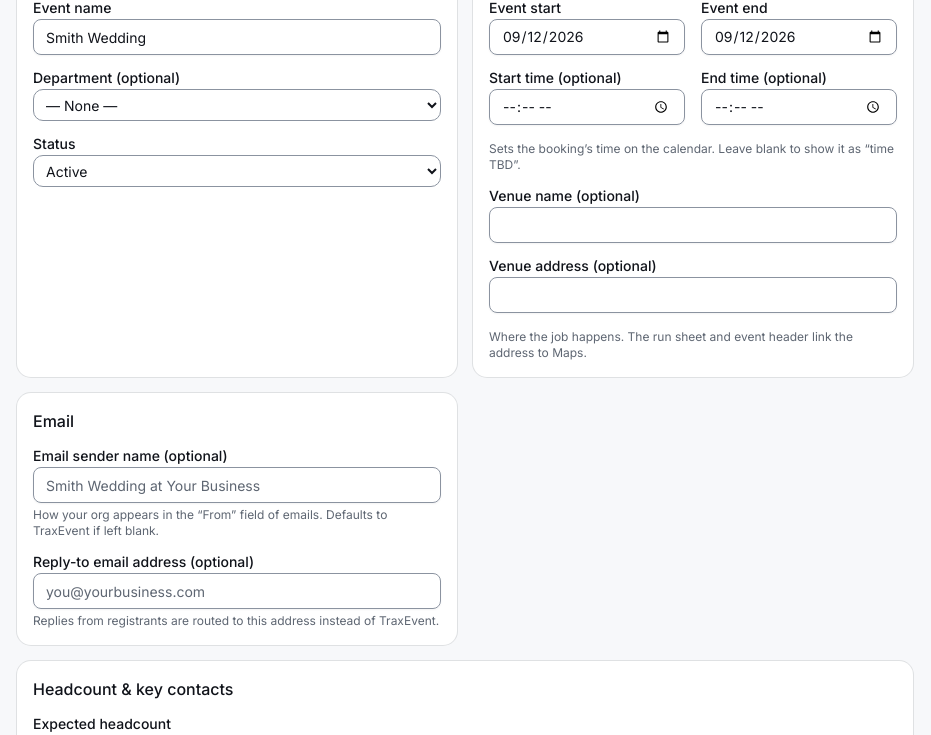
it: Event settings — client-job booking time › rejects a one-sided or reversed time range with an inline error, without saving
Note: one-sided: start only
Type "16:00" into the time field labelled "Start time (optional)". click: point(587, 107)
box: left=489, top=89, right=685, bottom=125
(page scrolled)
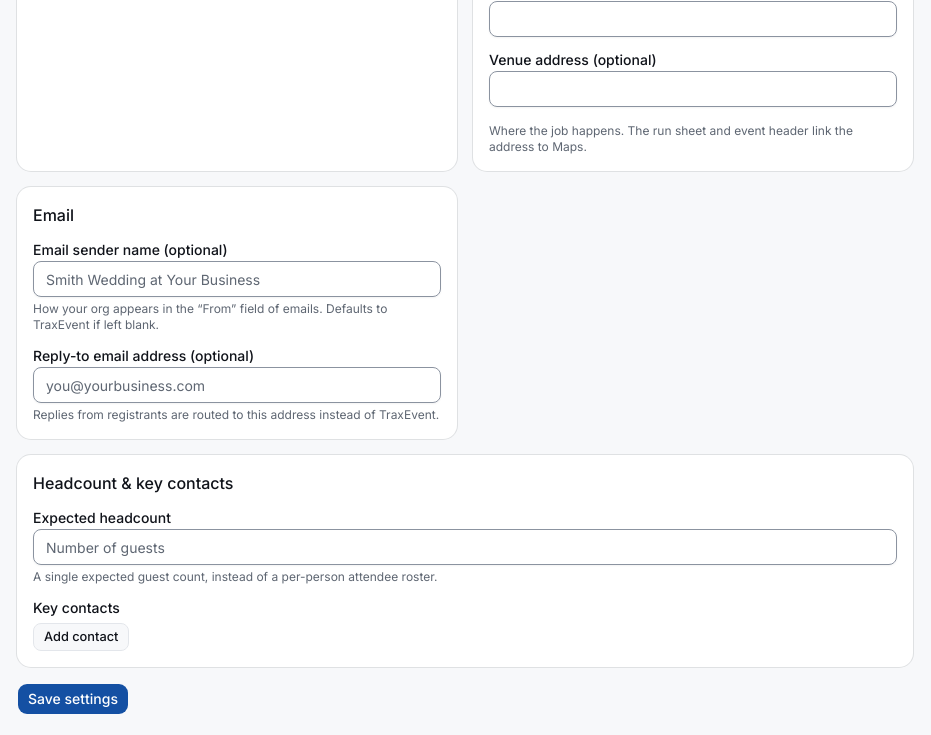
Click the button "Save settings". click: point(73, 699)
box: left=17, top=683, right=129, bottom=715
(page scrolled)
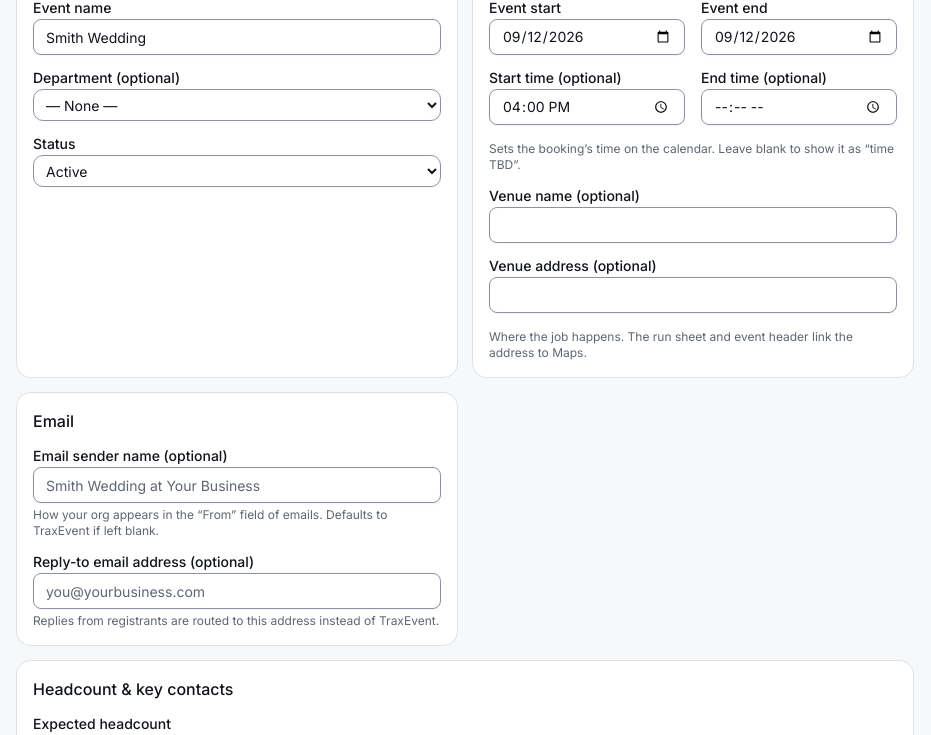
Note: reversed: end at/before start
Type "15:00" into the time field labelled "End time (optional)". click: point(799, 107)
box: left=701, top=89, right=897, bottom=125
(page scrolled)
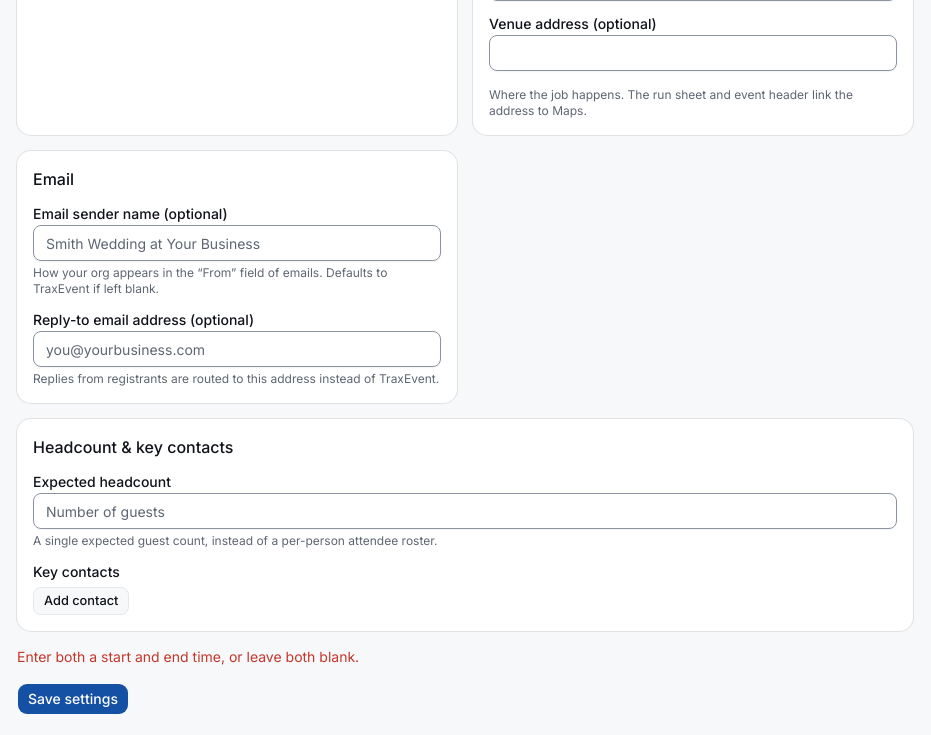
Click the button "Save settings". click: point(73, 699)
box: left=17, top=683, right=129, bottom=715
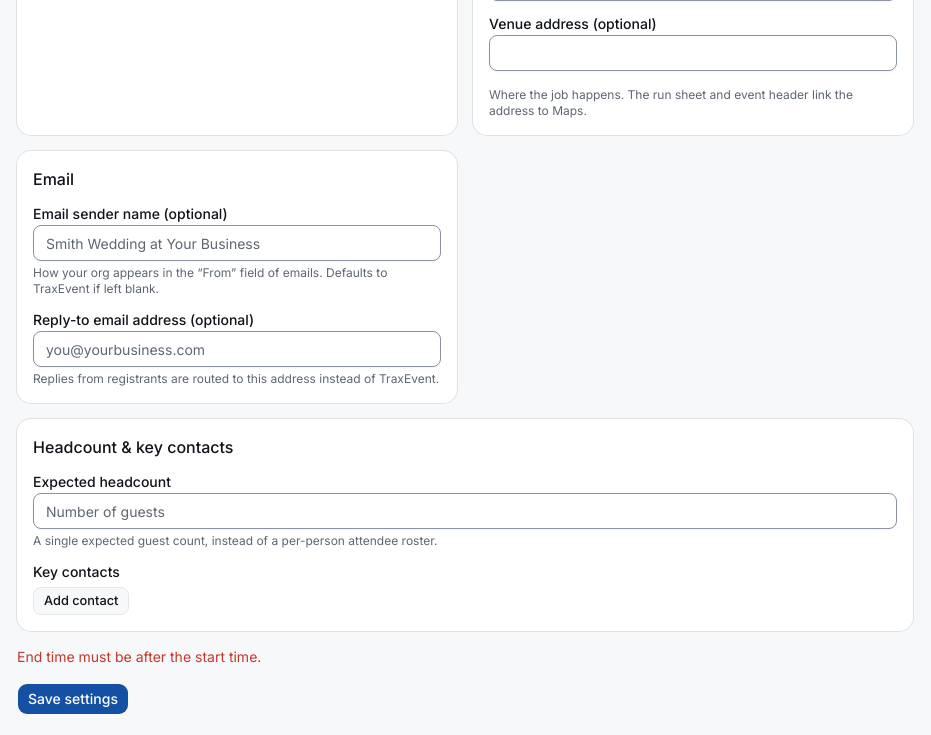
Result: the text "End time must be after the start time." is shown at left=17, top=648, right=261, bottom=665
